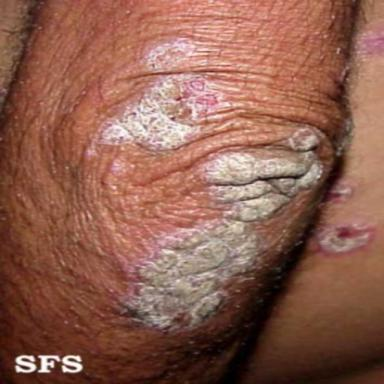Psoriasis: (114, 127, 322, 339), (87, 73, 231, 155), (314, 219, 376, 261), (142, 39, 194, 72), (355, 21, 384, 57), (330, 177, 357, 202)
